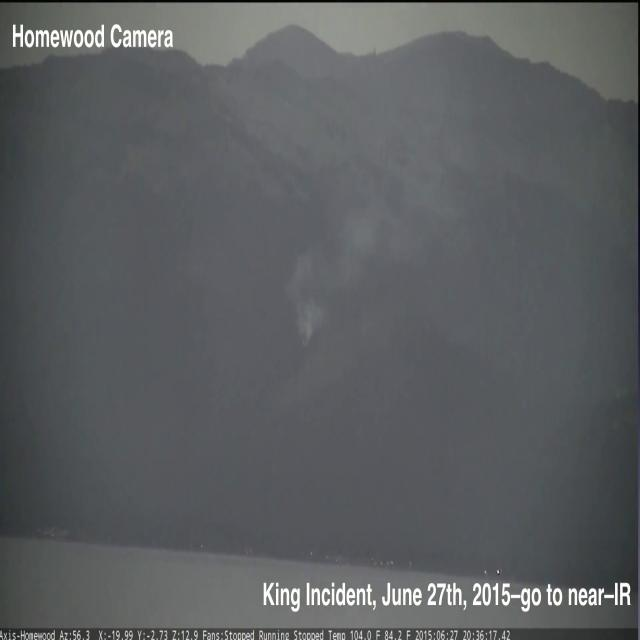smoke: (287, 198, 394, 352)
